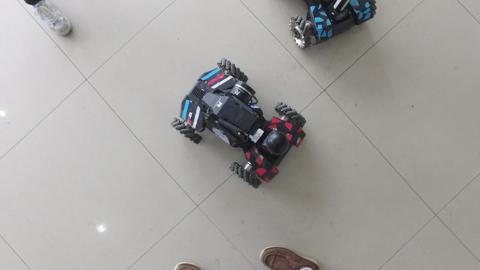chariot: (169, 57, 310, 191), (284, 1, 384, 52)
